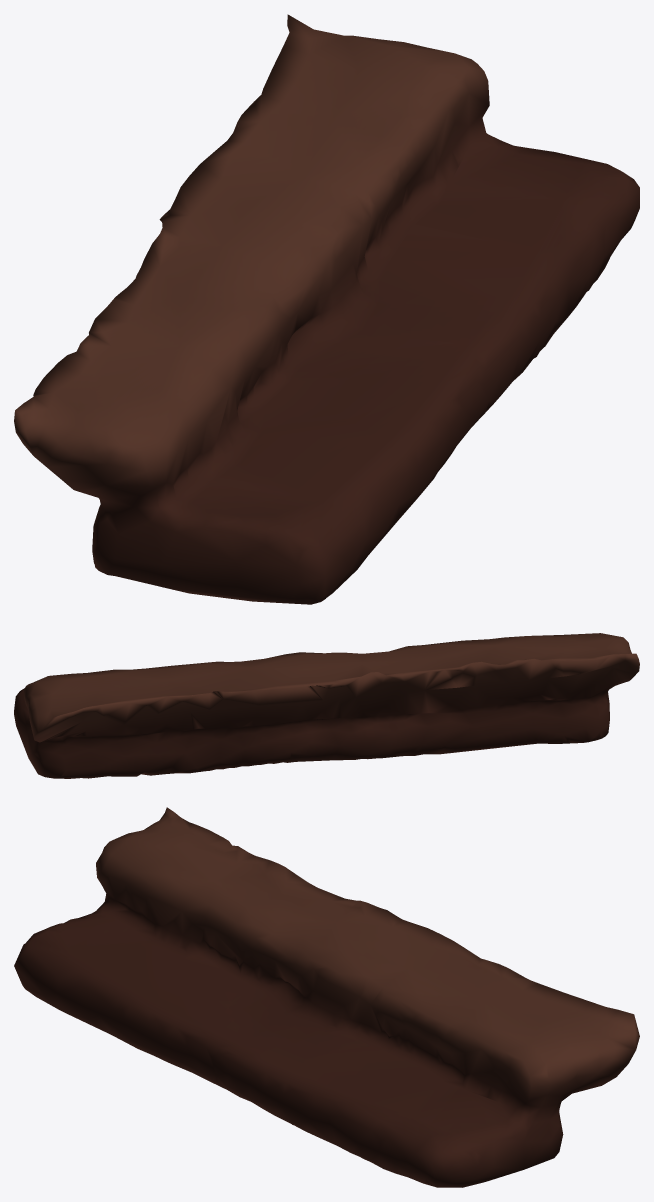
The model's file is timber-walkway-a.glb.
3 renders of one model, top to bottom at view 1: azimuth 30°, elevation 25°; view 2: azimuth 150°, elevation 25°; view 3: azimuth 270°, elevation 25°, orthographic. The views are drawn at different scales.
Visible parts, largest first — view 1: timber-walkway-a; view 2: timber-walkway-a; view 3: timber-walkway-a.
Part boxes in pixels (box(x1,y1,x2,y2)): timber-walkway-a: box(14, 14, 639, 604); timber-walkway-a: box(14, 633, 639, 778); timber-walkway-a: box(14, 807, 639, 1187).
Bounding box in the file's own units: 0.00754 × 0.00158 × 0.00723.
